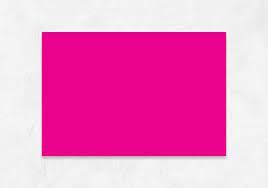pink_zone: (38, 20, 233, 163)
